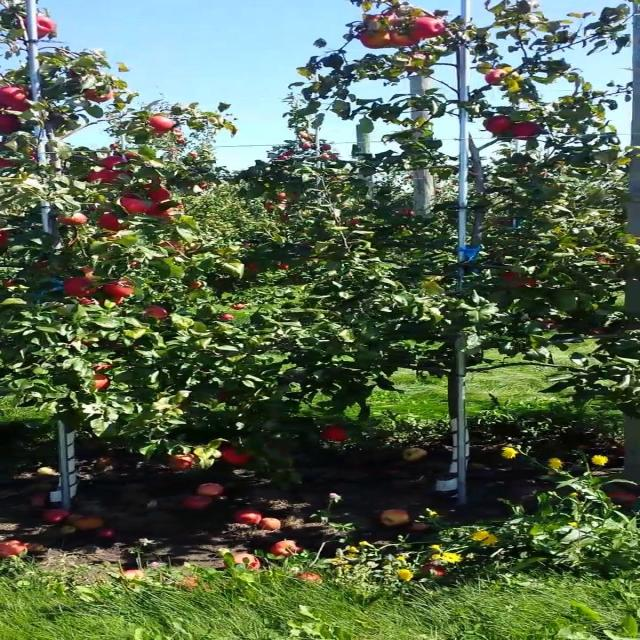apple: (20, 16, 57, 39), (412, 20, 448, 40), (120, 196, 153, 214), (63, 280, 98, 296), (362, 32, 391, 49), (84, 88, 114, 104), (148, 116, 178, 132), (390, 32, 420, 48), (106, 280, 135, 296), (504, 276, 539, 289), (99, 216, 126, 232), (148, 204, 176, 219), (141, 204, 171, 218), (504, 276, 539, 288), (170, 456, 197, 471), (227, 448, 252, 464), (490, 116, 512, 133), (6, 88, 28, 104), (518, 124, 540, 139), (92, 172, 119, 184), (148, 188, 171, 202), (369, 16, 400, 26), (326, 428, 348, 442), (6, 116, 21, 134), (148, 308, 171, 319), (63, 216, 89, 225), (106, 156, 124, 169), (511, 280, 539, 288), (6, 104, 30, 112), (148, 176, 164, 188), (106, 296, 126, 305), (92, 364, 114, 372), (490, 72, 505, 83), (164, 244, 185, 251), (84, 268, 96, 280), (0, 232, 9, 247), (99, 376, 110, 388), (84, 268, 96, 279), (248, 264, 261, 272), (596, 260, 617, 264), (6, 160, 16, 168), (220, 392, 228, 400), (220, 316, 235, 320), (120, 172, 135, 176), (84, 300, 96, 304), (129, 156, 133, 159)
